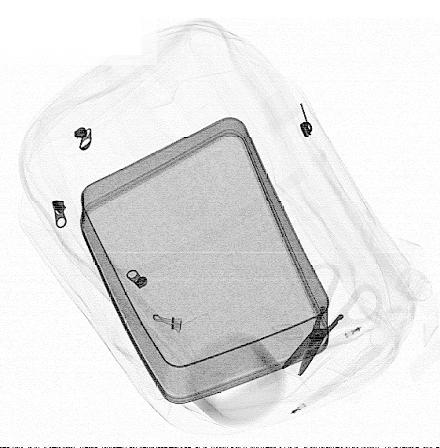Scissors: (281, 263, 383, 378)
